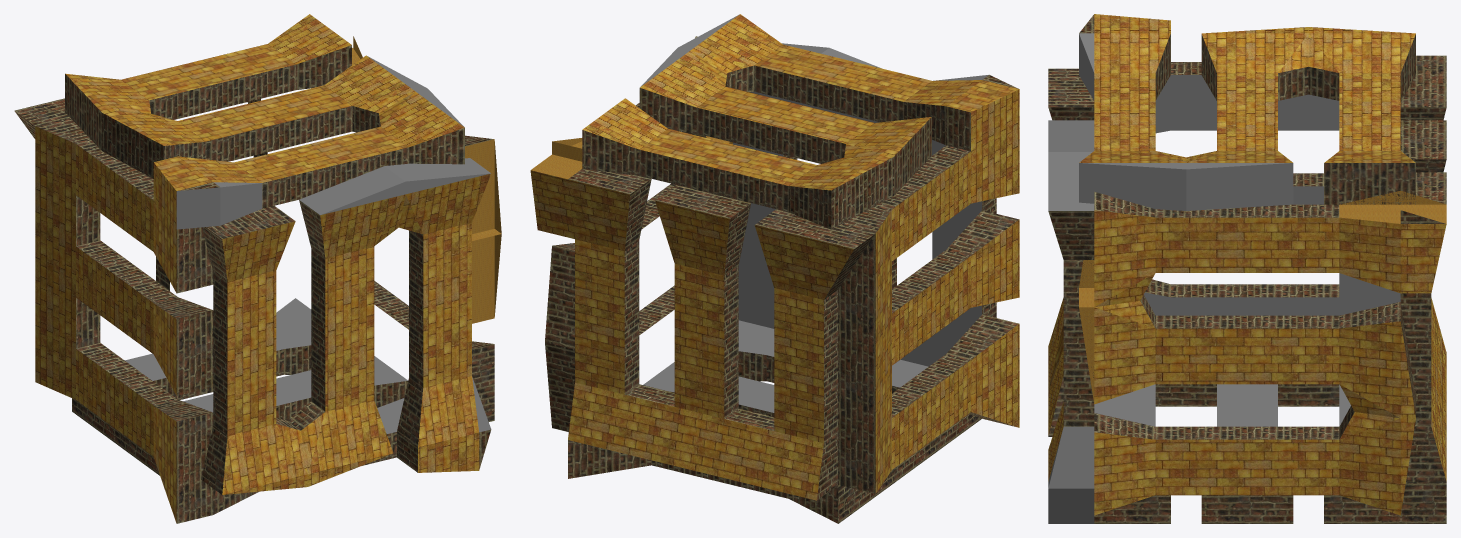
File: swcube3tex.gltf
The picture shows the model from 3 angles, left to right: view 1: azimuth 30°, elevation 25°; view 2: azimuth 150°, elevation 25°; view 3: azimuth 270°, elevation 25°; orthographic projection. The views are drawn at different scales.
Parts seen in each view (by area): view 1: SW (×3); view 2: SW (×3); view 3: SW (×3).
Part boxes in pixels (x1,y1,x2,y2): SW (×3): (14, 14, 501, 523); SW (×3): (530, 14, 1019, 523); SW (×3): (1048, 14, 1446, 523).
Size of the model in its own units: 3.96 by 3.96 by 3.96.
Materials: 3 (2 with a texture image).
